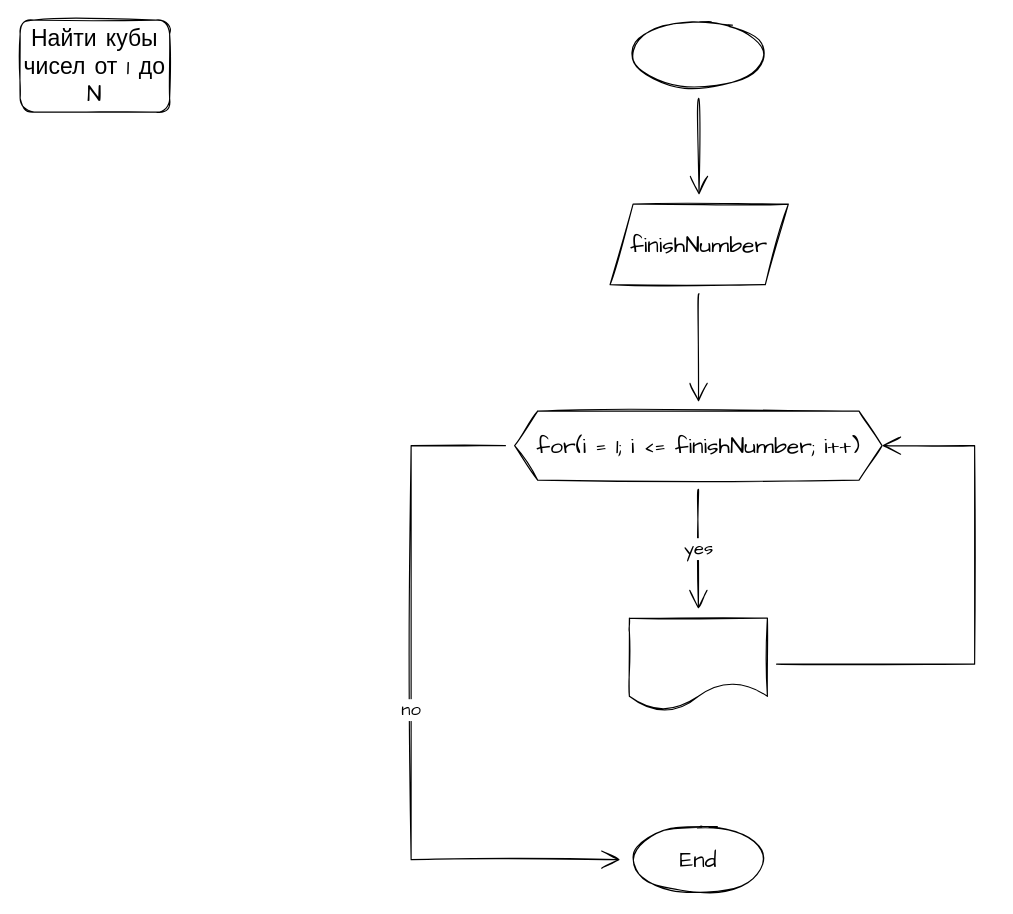
Some shapes in this 1013 by 914 pixel diagram are drawn without their labels. The shapes that lost their labels are listed below. From the top down, each one's box as (x1, y1, x2, y2) in pixels, then its label:
(628, 19, 768, 89): Start
(628, 617, 767, 710): Print i * i * i
